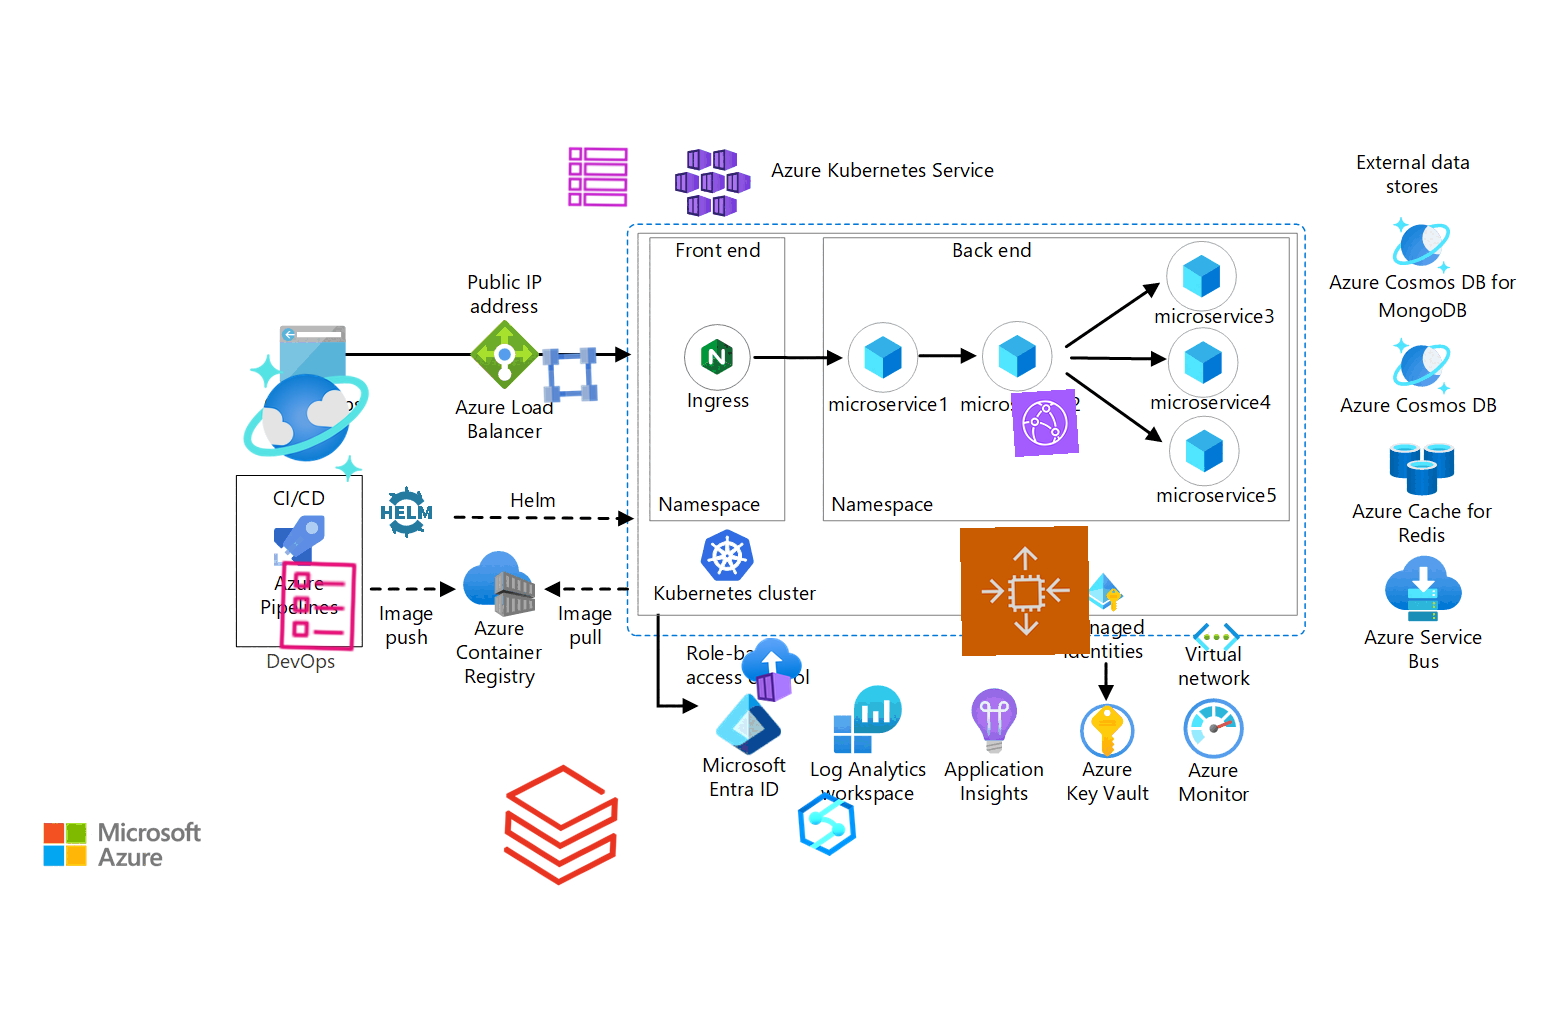aws_amazon_cloudfront: (1011, 389, 1080, 458)
aws_amazon_ec2_auto_scaling: (959, 525, 1091, 657)
aws_cloudformation_template: (267, 556, 367, 656)
aws_dynamodb_table: (565, 144, 631, 210)
azure_container_instances: (737, 635, 807, 705)
azure_cosmos_db: (236, 348, 376, 488)
azure_databricks: (494, 758, 628, 892)
azure_synapse_analytics: (792, 789, 862, 859)
gcp_virtual_private_cloud: (536, 342, 604, 409)
